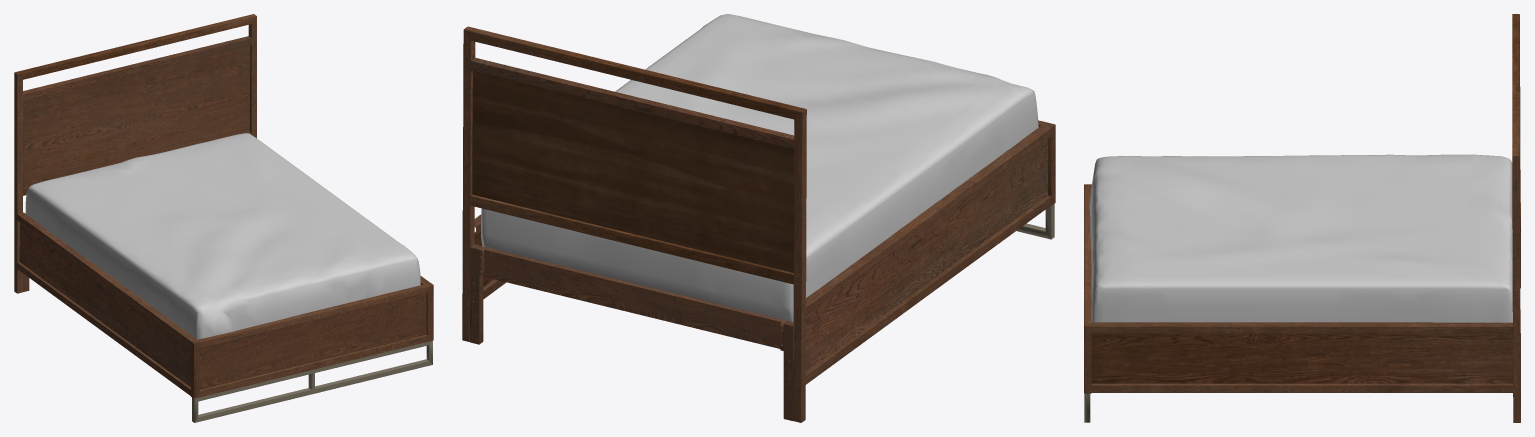
Rendered from B071FJR4FW.glb.
3 renders of one model, left to right at view 1: azimuth 30°, elevation 25°; view 2: azimuth 150°, elevation 25°; view 3: azimuth 270°, elevation 25°, orthographic. The views are drawn at different scales.
Parts seen in each view (by area): view 1: RootNode; view 2: RootNode; view 3: RootNode.
Part boxes in pixels (x1=…): RootNode: x1=14, y1=14, x2=433, y2=422; RootNode: x1=462, y1=14, x2=1055, y2=422; RootNode: x1=1084, y1=14, x2=1520, y2=422.
Size of the model in its own units: 1.63 by 1.42 by 2.11.
Materials: 1 (1 with a texture image).
